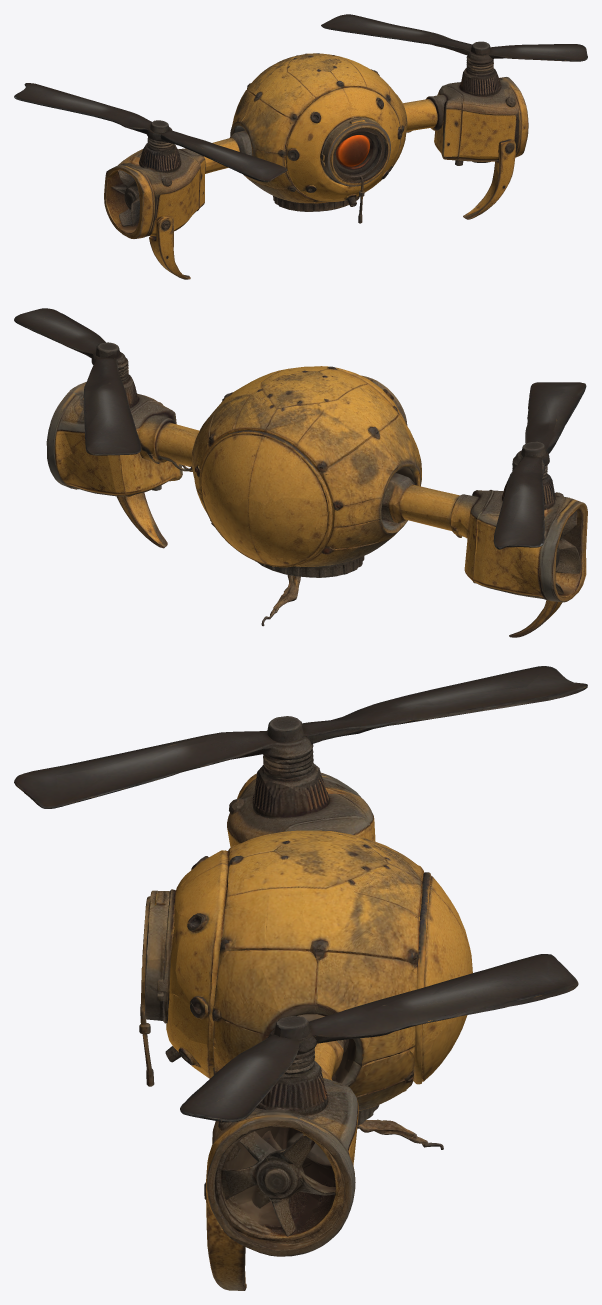
File: ScrapDrone.glb
3 renders of one model, top to bottom at view 1: azimuth 30°, elevation 25°; view 2: azimuth 150°, elevation 25°; view 3: azimuth 270°, elevation 25°, orthographic. The views are drawn at different scales.
Bounding box in the file's own units: 1.9 × 0.646 × 1.04.
Materials: 1 (1 with a texture image).
